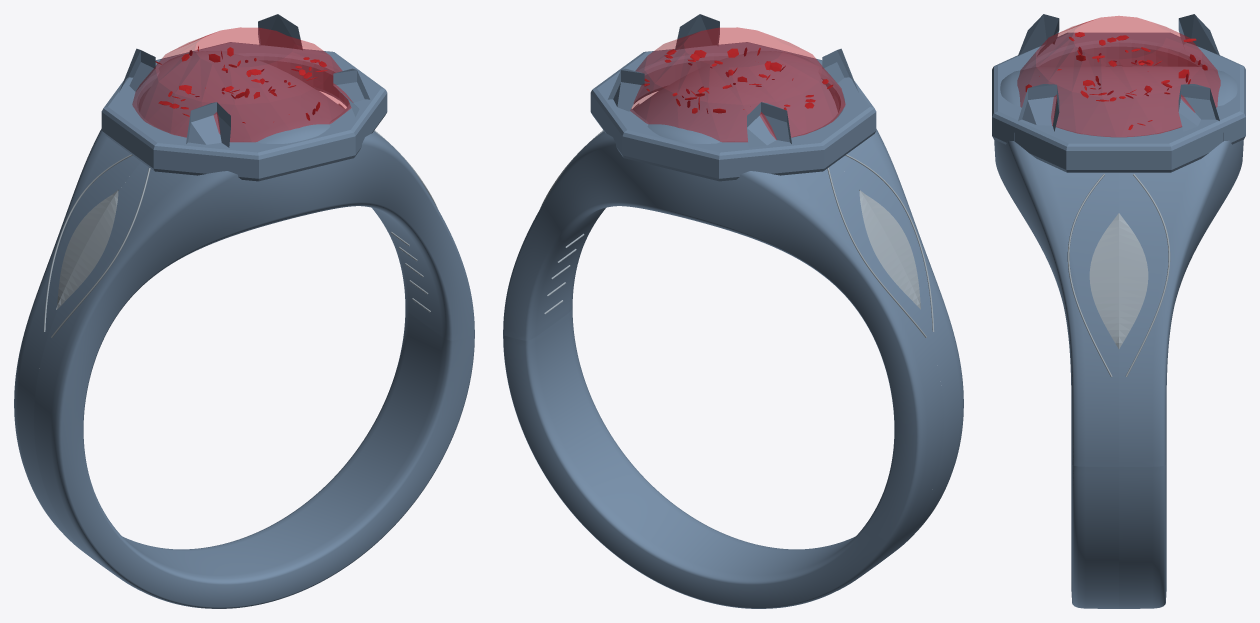
The model's file is kaldite_ring.glb.
3 renders of one model, left to right at view 1: azimuth 30°, elevation 25°; view 2: azimuth 150°, elevation 25°; view 3: azimuth 270°, elevation 25°, orthographic.
Visible parts, largest first — view 1: Blue steel cobalt band, Deep red transparent garnet, Bright bevels of cobalt, Scarlet garnet fracture flakes; view 2: Blue steel cobalt band, Deep red transparent garnet, Bright bevels of cobalt, Scarlet garnet fracture flakes; view 3: Blue steel cobalt band, Deep red transparent garnet, Bright bevels of cobalt, Scarlet garnet fracture flakes.
Part boxes in pixels (box(x1,y1,x2,y2)): Blue steel cobalt band: box(14, 14, 474, 608); Deep red transparent garnet: box(132, 27, 353, 142); Bright bevels of cobalt: box(43, 103, 437, 337); Scarlet garnet fracture flakes: box(155, 46, 327, 123); Blue steel cobalt band: box(503, 14, 963, 608); Deep red transparent garnet: box(630, 27, 845, 142); Bright bevels of cobalt: box(540, 103, 934, 337); Scarlet garnet fracture flakes: box(644, 48, 833, 113); Blue steel cobalt band: box(992, 14, 1245, 608); Deep red transparent garnet: box(1017, 16, 1220, 137); Bright bevels of cobalt: box(1067, 174, 1170, 376); Scarlet garnet fracture flakes: box(1025, 32, 1207, 129).
Size of the model in its own units: 0.0233 by 0.0286 by 0.012.
